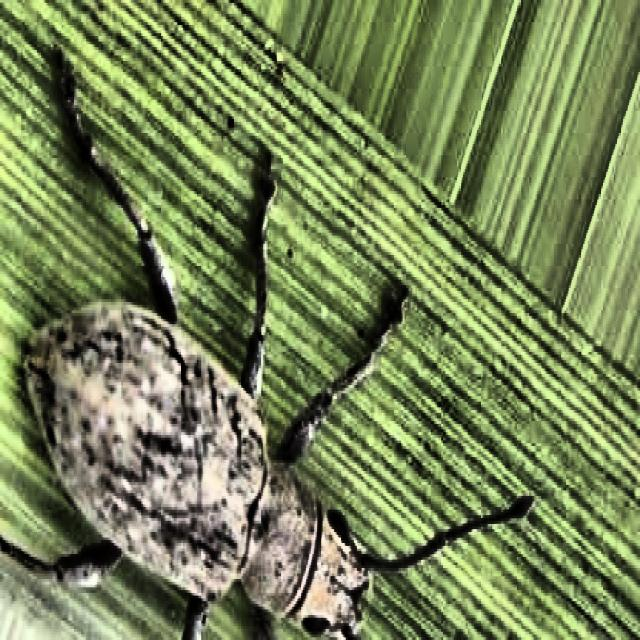Stink bug: (73, 224, 424, 640)
